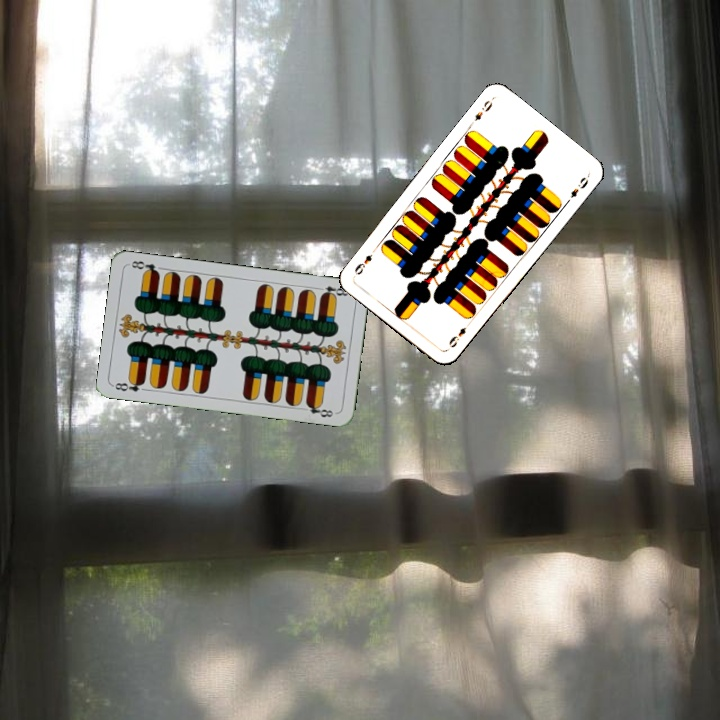E8: (313, 282, 353, 300), (111, 376, 151, 394)
E9: (445, 318, 473, 350), (470, 95, 496, 124)
